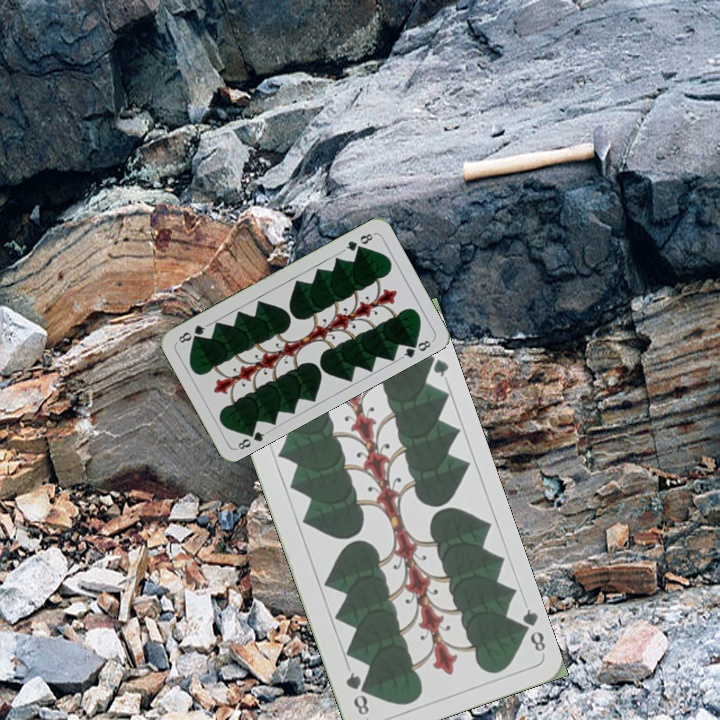G8: (512, 604, 549, 655), (233, 424, 270, 452), (339, 229, 377, 254)
